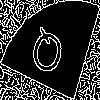Q: (25, 25, 68, 86)
